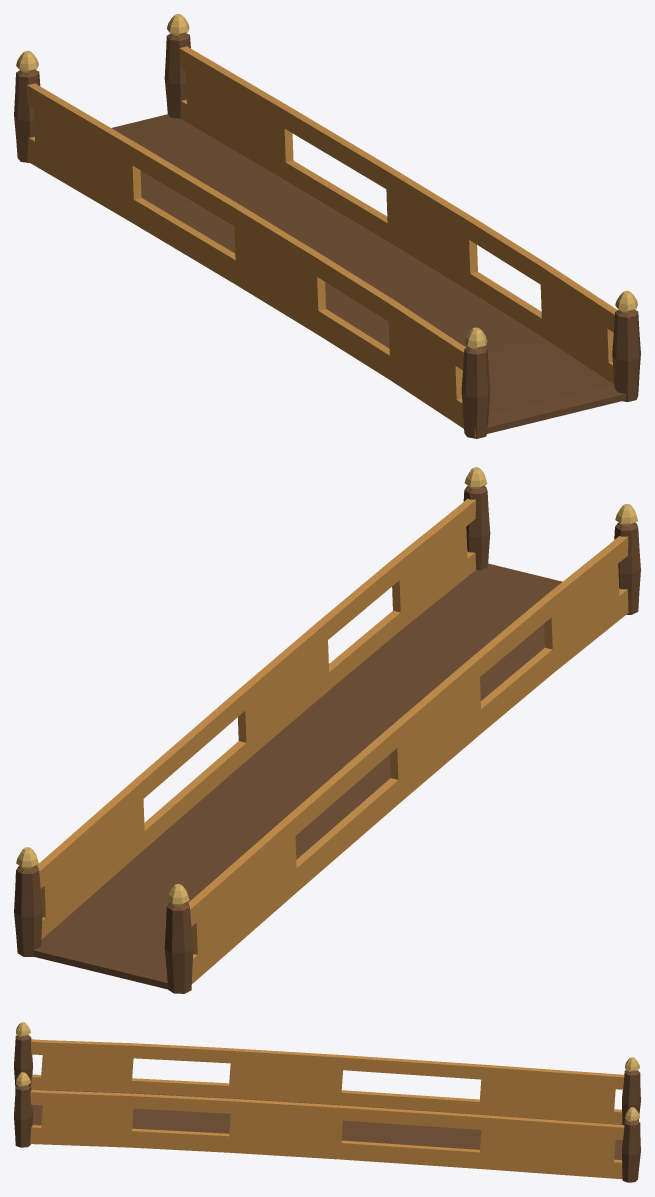
File: puente.fbx
3 renders of one model, top to bottom at view 1: azimuth 30°, elevation 25°; view 2: azimuth 150°, elevation 25°; view 3: azimuth 270°, elevation 25°, orthographic. The views are drawn at different scales.
Parts seen in each view (by area): view 1: Cylinder; view 2: Cylinder; view 3: Cylinder.
Boxes of the visible parts, left/top/right/bottom form: Cylinder: left=14, top=14, right=640, bottom=438; Cylinder: left=14, top=467, right=640, bottom=993; Cylinder: left=14, top=1022, right=640, bottom=1182.
Size of the model in its own units: 1740 by 1485 by 7919.
